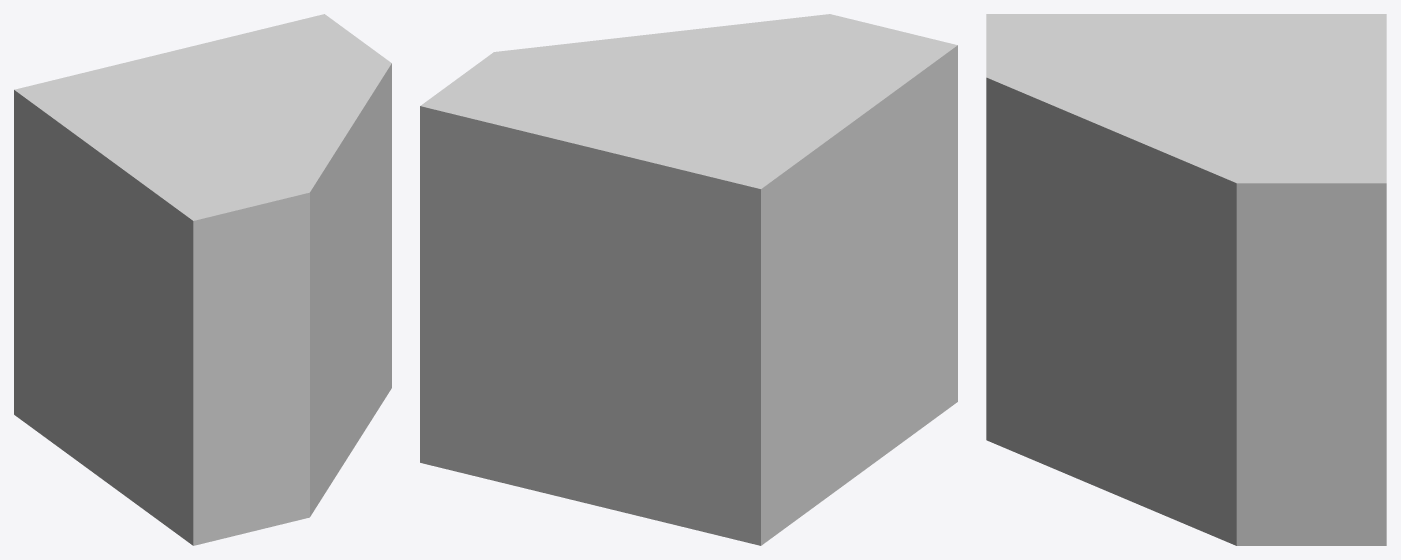
Rendered from r3c8_bode_light_grey.gltf.
The picture shows the model from 3 angles, left to right: view 1: azimuth 30°, elevation 25°; view 2: azimuth 150°, elevation 25°; view 3: azimuth 270°, elevation 25°; orthographic projection. The views are drawn at different scales.
Visible parts, largest first — view 1: r3c8_bode_light_grey; view 2: r3c8_bode_light_grey; view 3: r3c8_bode_light_grey.
Part boxes in pixels (bbox=[...]): r3c8_bode_light_grey: bbox=[14, 14, 391, 545]; r3c8_bode_light_grey: bbox=[420, 14, 957, 545]; r3c8_bode_light_grey: bbox=[986, 14, 1386, 545].
Size of what is drawn, in the model's own units: 2 by 2 by 2.
Materials: 1 (1 with a texture image).
